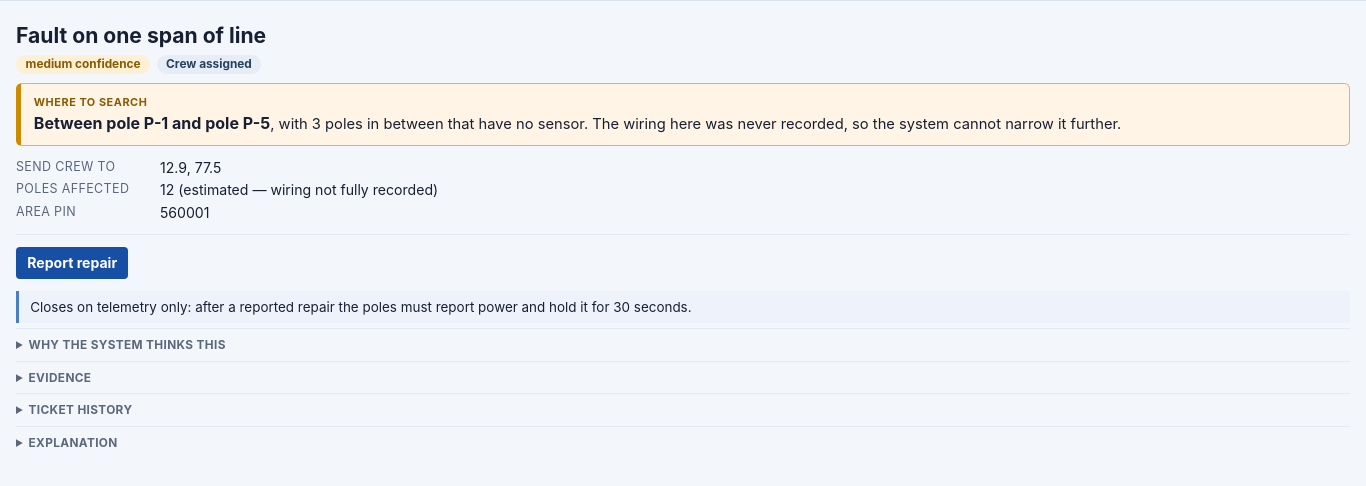
Test case: incident detail › shows corridor uncertainty, evidence, allowed repair action, and its typed rejection
Expected: the text "Where to search" is shown, [34,94,147,108]
Expected: the text "3 poles in between that have no sensor" is shown, [270,115,584,133]
Click the button "Report repair". click: (72, 263)
box: [16,247,128,279]
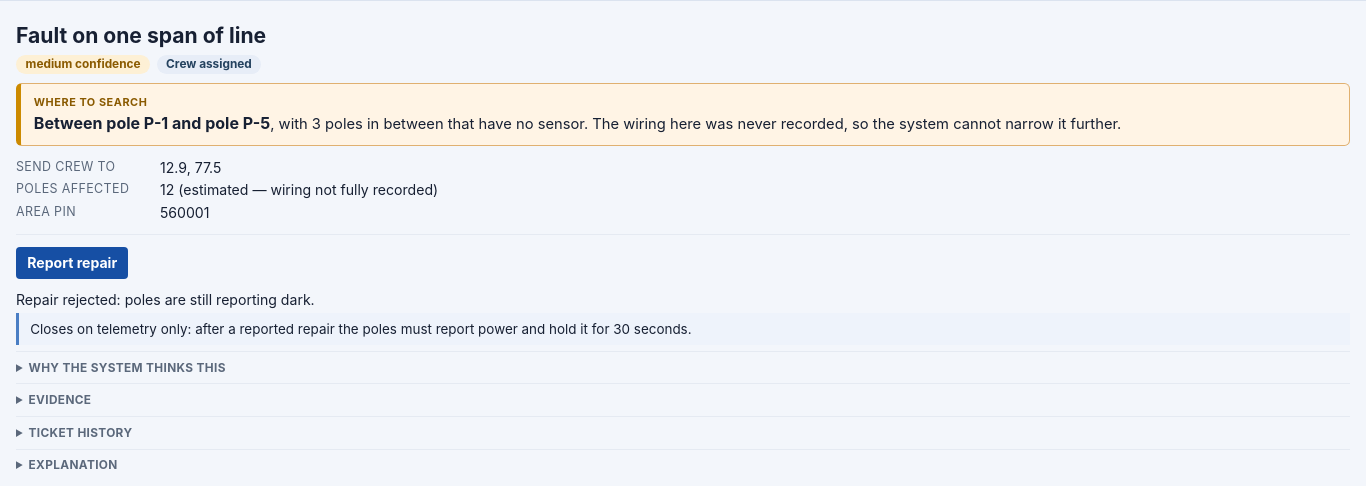
Result: the text "Repair rejected: poles are still reporting dark." is shown at [16,291,315,308]
